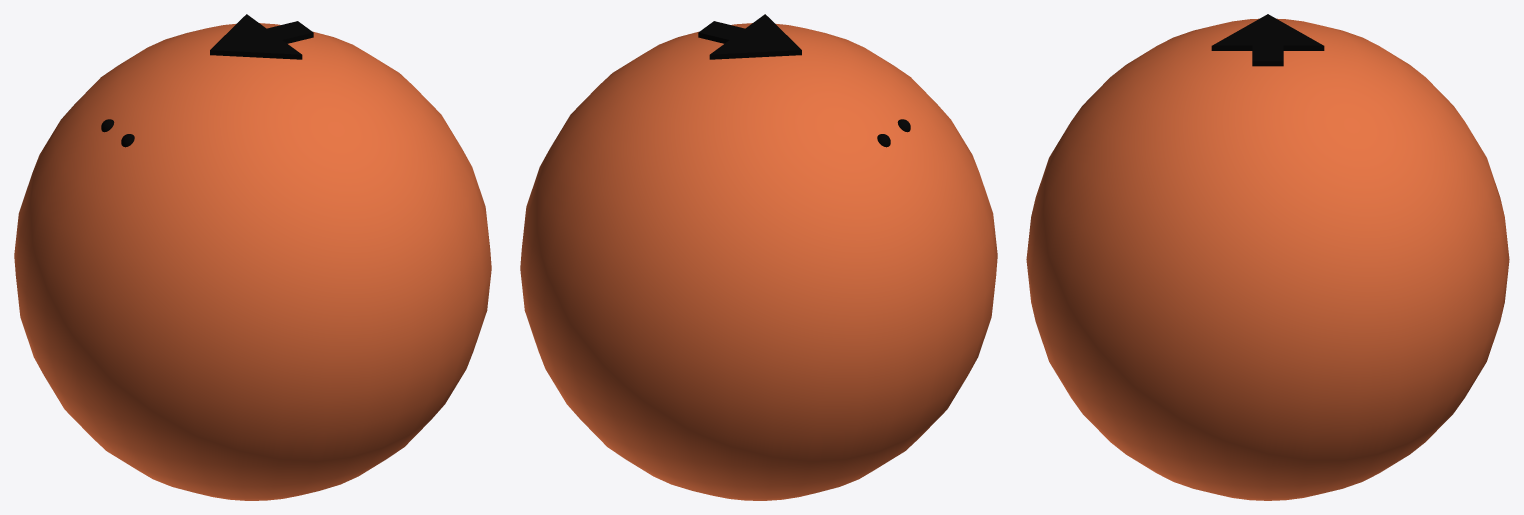
Rendered from bbeige.obj.
3 views of the same model, side by side, from view 1: azimuth 30°, elevation 25°; view 2: azimuth 150°, elevation 25°; view 3: azimuth 270°, elevation 25° (orthographic).
Visible parts, largest first — view 1: Cube.021_Cube.002; view 2: Cube.021_Cube.002; view 3: Cube.021_Cube.002.
Boxes of the visible parts, x1,y1,x2,y2 form: Cube.021_Cube.002: (14, 14, 491, 500); Cube.021_Cube.002: (520, 14, 997, 500); Cube.021_Cube.002: (1026, 14, 1509, 500).
Size of the model in its own units: 0.4999 by 0.5016 by 0.4999.
